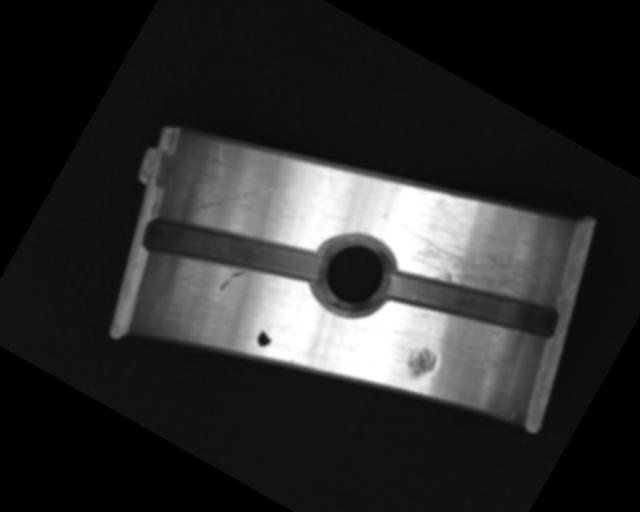blot: (253, 324, 278, 351)
bruise: (398, 339, 442, 385)
gap: (137, 176, 325, 329), (377, 230, 563, 377)
hole: (302, 221, 407, 327)
nick: (192, 146, 291, 244), (217, 263, 247, 299)
scratch: (381, 176, 579, 337)
